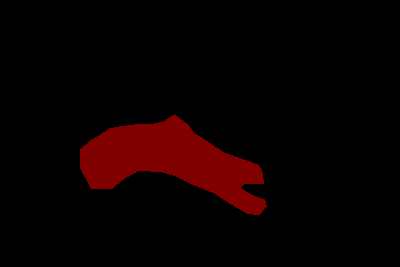fire: (80, 114, 266, 215)
